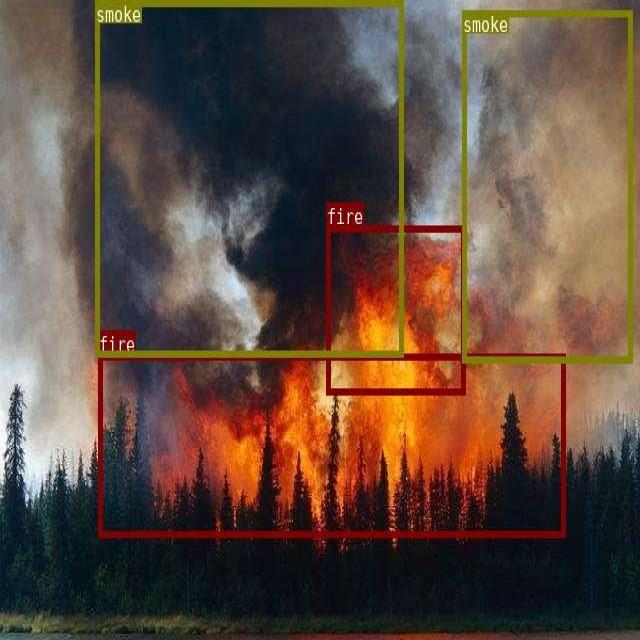fire: (98, 353, 565, 535), (326, 226, 465, 394)
smoke: (95, 0, 403, 355), (462, 9, 631, 362)
